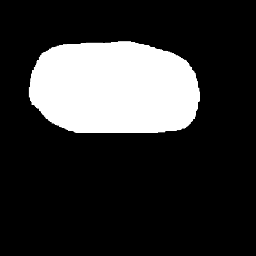mass: (30, 41, 195, 152)
